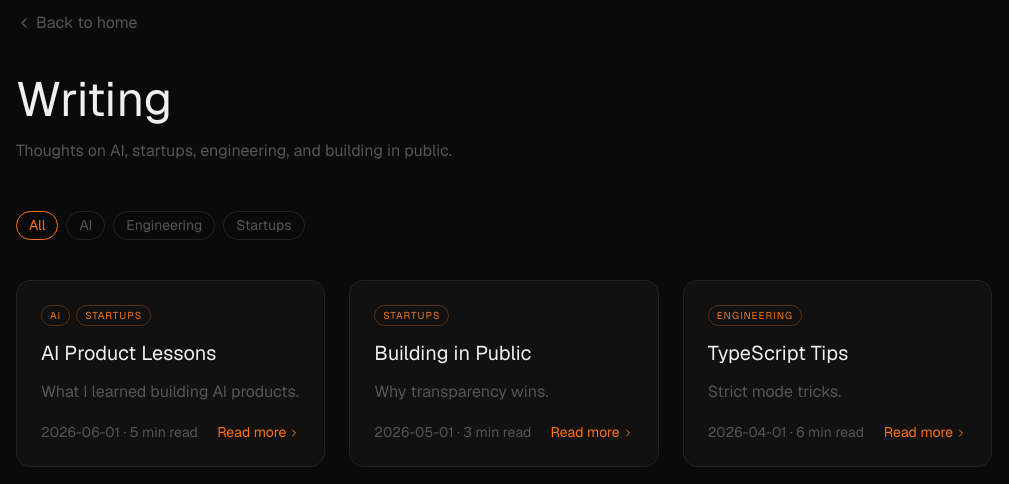
/blog listing page › clicking active tag again resets filter to show all posts
Click the button "Engineering": (164, 225) [113, 211, 215, 240]
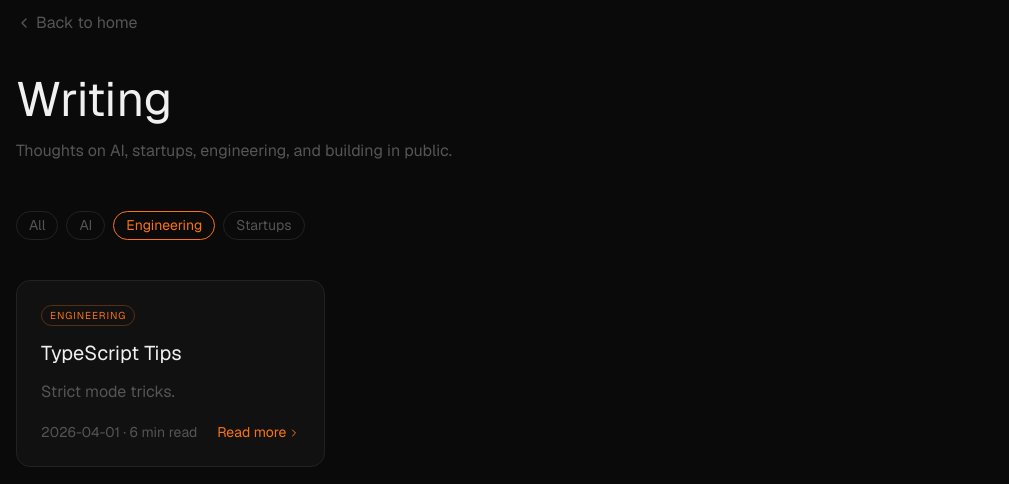
Now the link "AI Product Lessons" is gone
Click the button "Engineering": (164, 225) [113, 211, 215, 240]
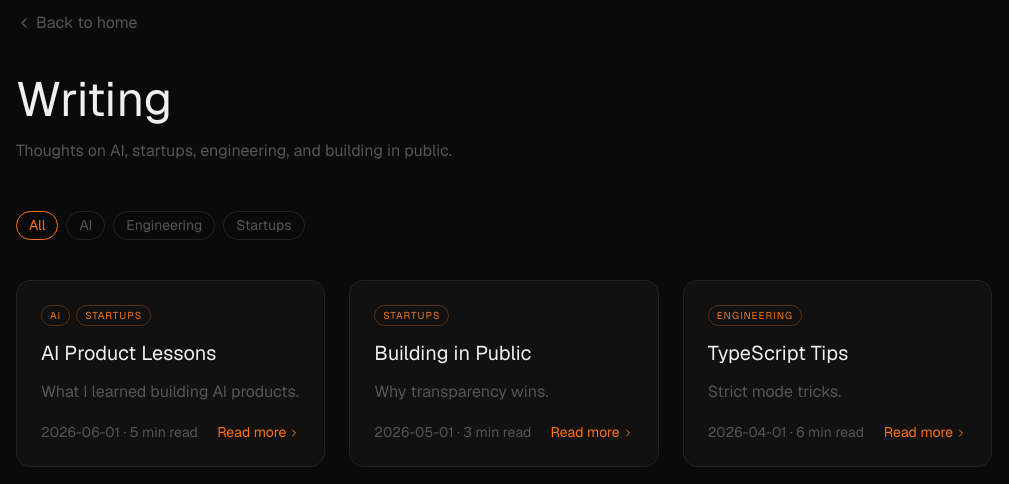
Now the heading "AI Product Lessons" is shown, box [41, 340, 216, 366]
Now the heading "Building in Public" is shown, box [374, 340, 531, 366]
